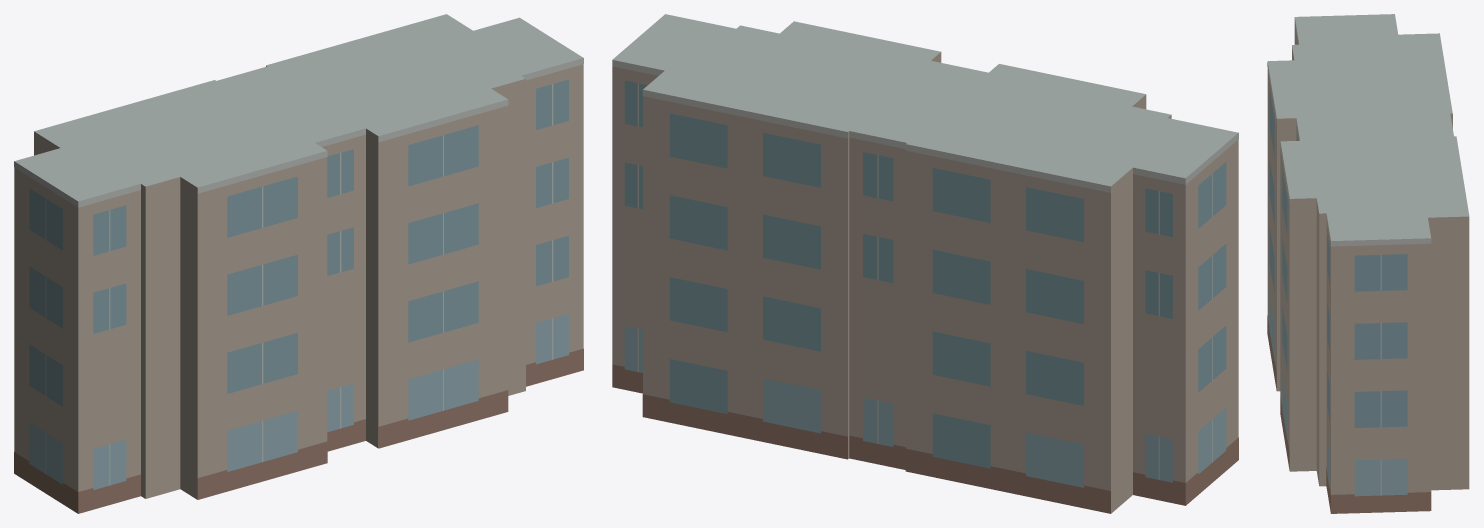
The model's file is survey-upis-32615352.glb.
The picture shows the model from 3 angles, left to right: view 1: azimuth 30°, elevation 25°; view 2: azimuth 150°, elevation 25°; view 3: azimuth 270°, elevation 25°; orthographic projection. The views are drawn at different scales.
Parts seen in each view (by area): view 1: survey-upis-32615352.tmp; view 2: survey-upis-32615352.tmp; view 3: survey-upis-32615352.tmp.
Boxes of the visible parts, x1,y1,x2,y2 form: survey-upis-32615352.tmp: (14,14,583,513); survey-upis-32615352.tmp: (612,14,1238,513); survey-upis-32615352.tmp: (1267,14,1469,513).
Bounding box in the file's own units: 22.01 × 12.32 × 8.28.
